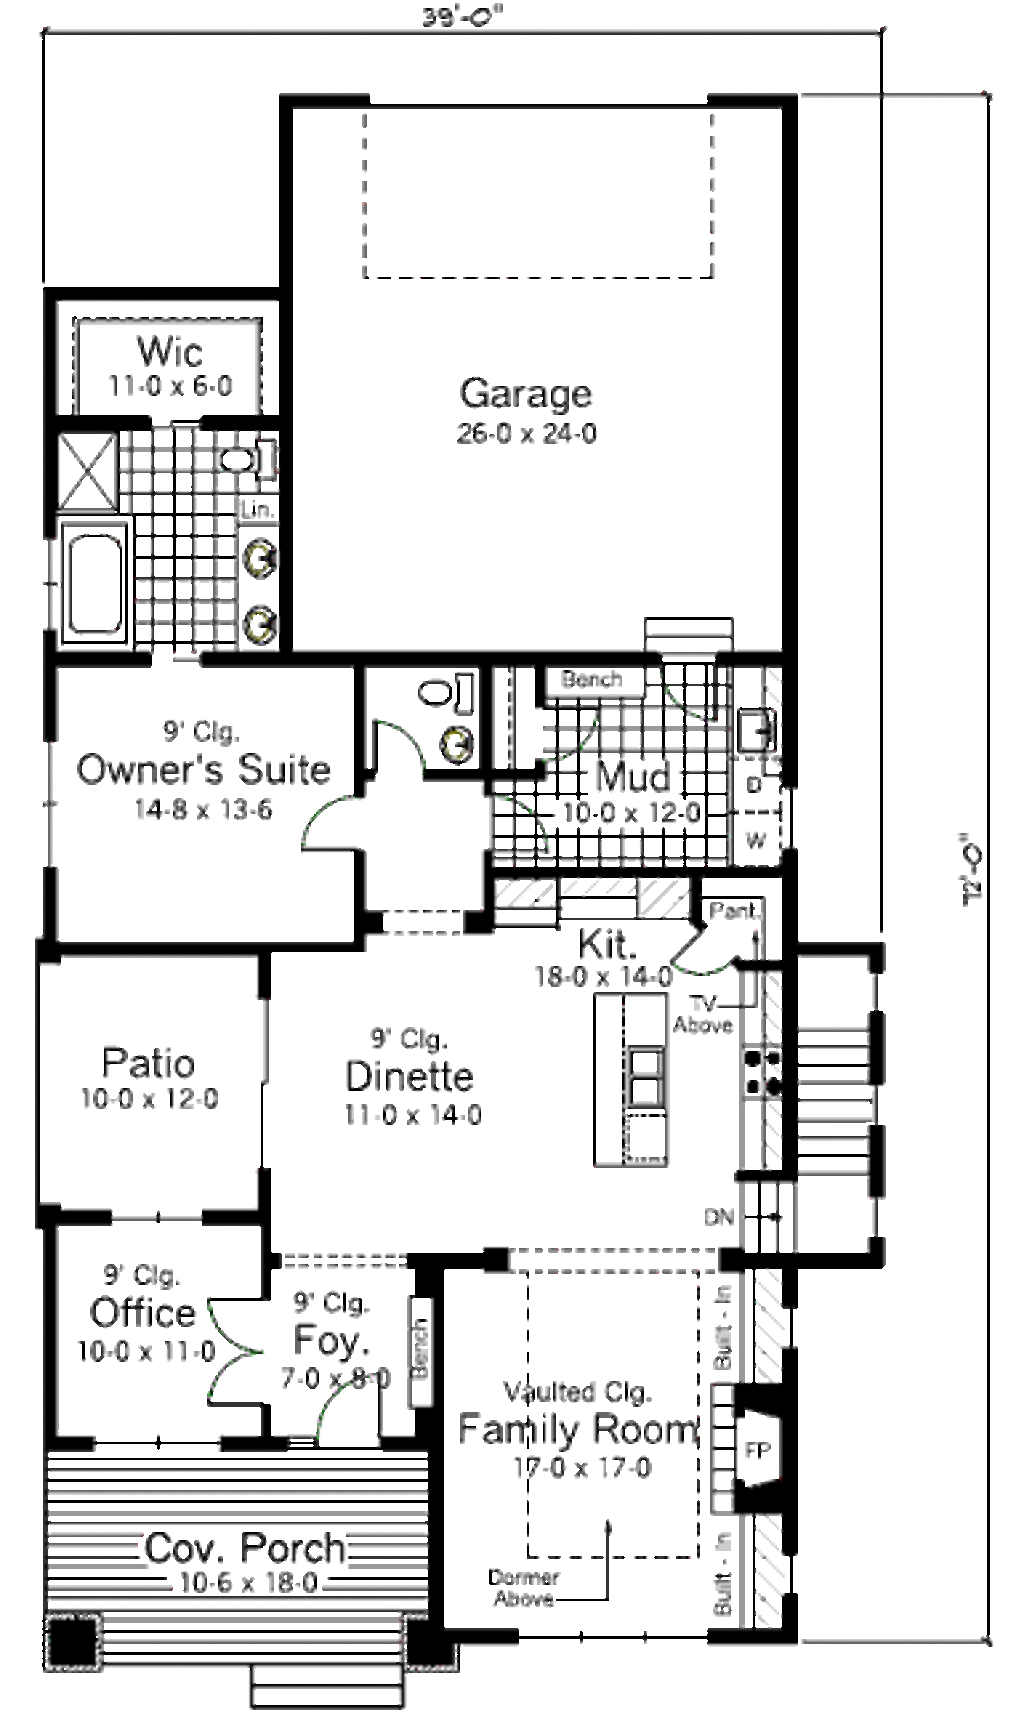door: (197, 1292, 278, 1420), (302, 1365, 397, 1446), (294, 787, 371, 861), (372, 712, 432, 773)
kitchen_bar: (567, 974, 672, 1200)
large_sink: (394, 670, 494, 727), (215, 433, 286, 500)
sink: (742, 699, 805, 768)
small_sink: (236, 519, 294, 676), (443, 725, 488, 787)
tub: (63, 506, 141, 676)
